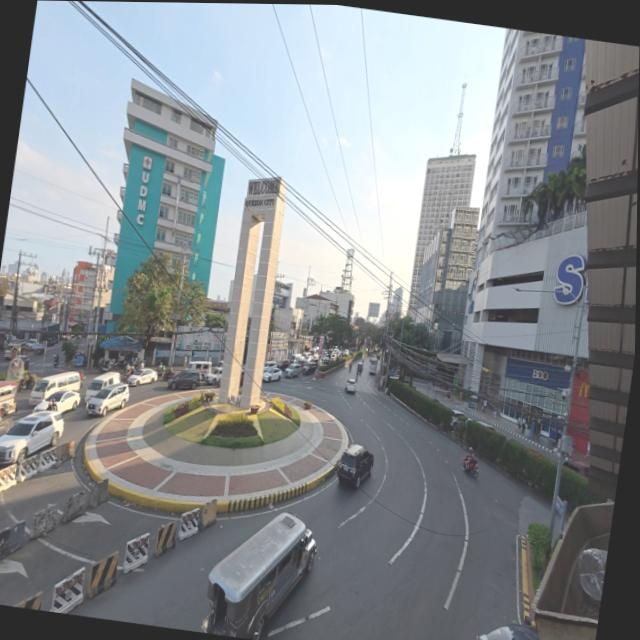Jeepneys: (202, 513, 316, 639), (0, 381, 17, 416)
car: (0, 412, 64, 464), (337, 444, 374, 487), (86, 384, 129, 416), (35, 391, 80, 412), (477, 625, 538, 639), (168, 370, 201, 390), (127, 368, 157, 386), (563, 459, 589, 477), (451, 409, 469, 428), (262, 367, 282, 382), (206, 367, 222, 385), (285, 362, 301, 378), (477, 420, 497, 432), (302, 361, 318, 376), (5, 344, 21, 359), (345, 378, 356, 394), (278, 359, 291, 371), (264, 361, 277, 372), (45, 336, 58, 347), (25, 339, 38, 349), (293, 354, 303, 363), (357, 361, 363, 373), (343, 349, 349, 357), (0, 415, 1, 423)
motorcycle: (462, 458, 478, 476), (17, 376, 36, 391), (163, 370, 174, 381), (54, 357, 59, 368)
vans: (29, 372, 80, 406), (85, 372, 120, 399), (186, 361, 212, 380)
